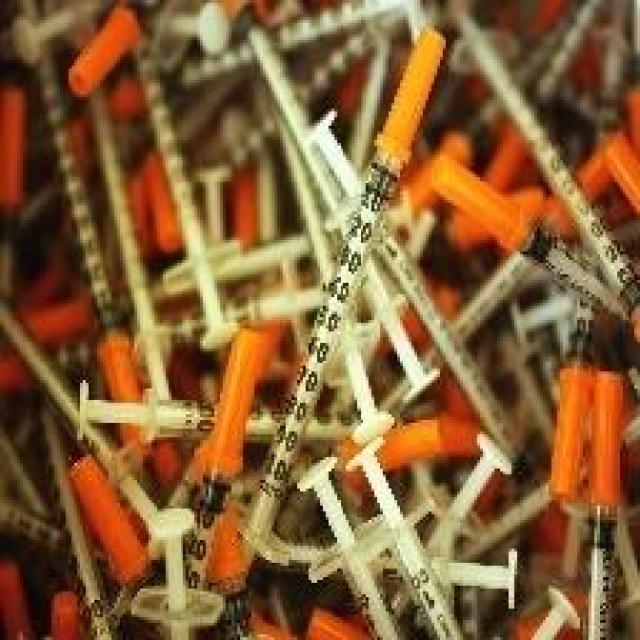syringe: (27, 3, 629, 640), (278, 84, 433, 606), (100, 384, 462, 509), (434, 165, 634, 342), (572, 407, 640, 640)
